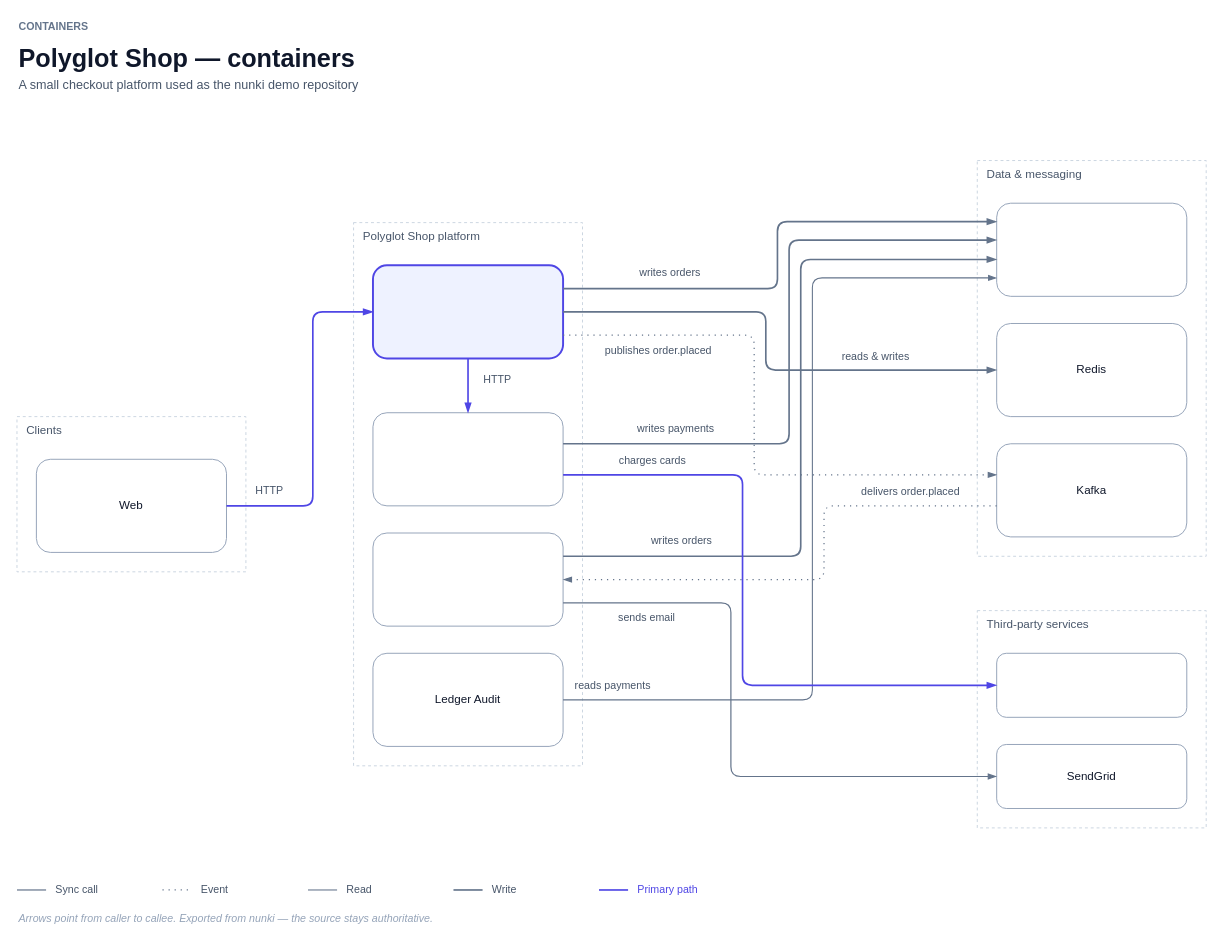
Image size: 1224x945. Some labels were removed from this diagram. Here are the shapes that lost their labels. From the top down, the centre of each, then its label:
At (x=1091, y=249): "PostgreSQL".
At (x=468, y=311): "API Gateway".
At (x=467, y=459): "Payments".
At (x=467, y=579): "Fulfillment".
At (x=1091, y=684): "Stripe".
